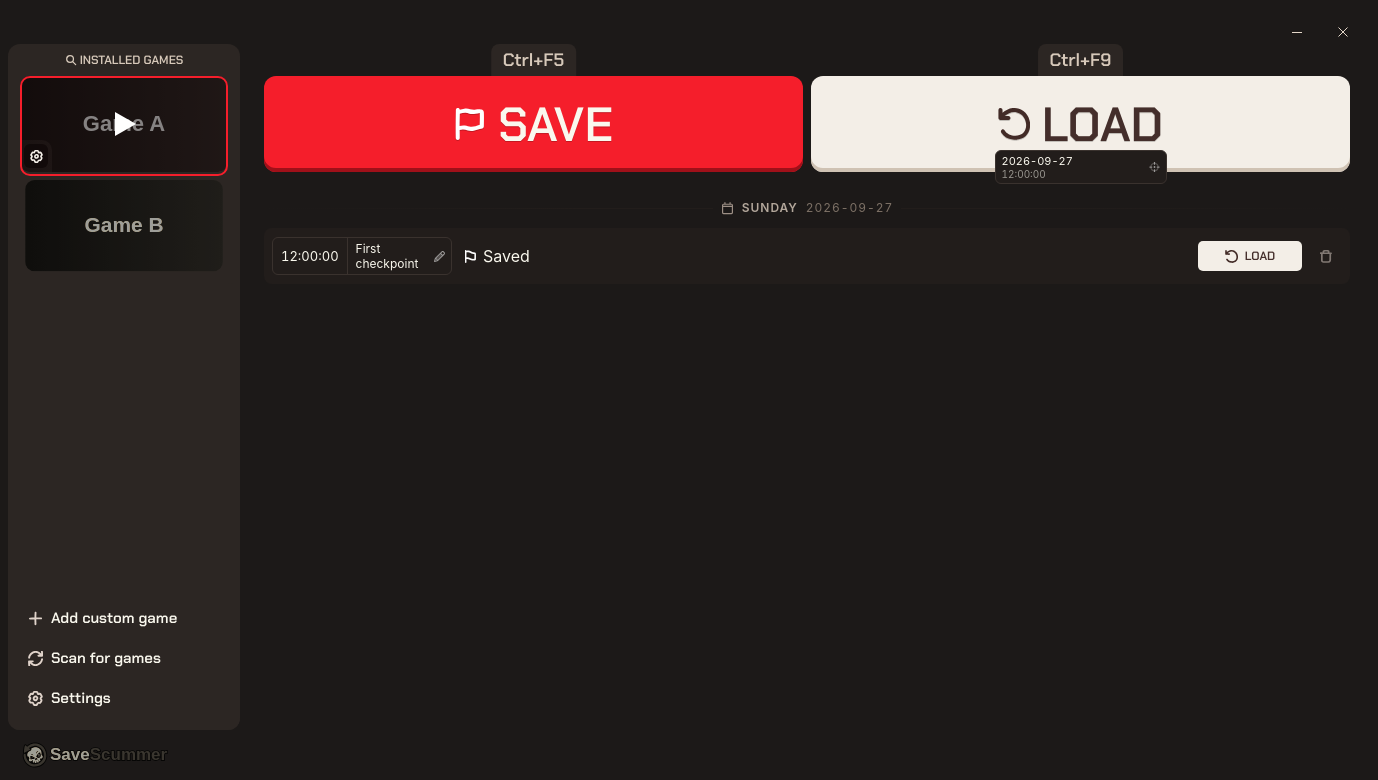
Test: an access error from an operation is translated for the error block
This screenshot has width=1378, height=780.
Click the button with aria-label "save Game A" at [534, 124], box [264,76,803,172]
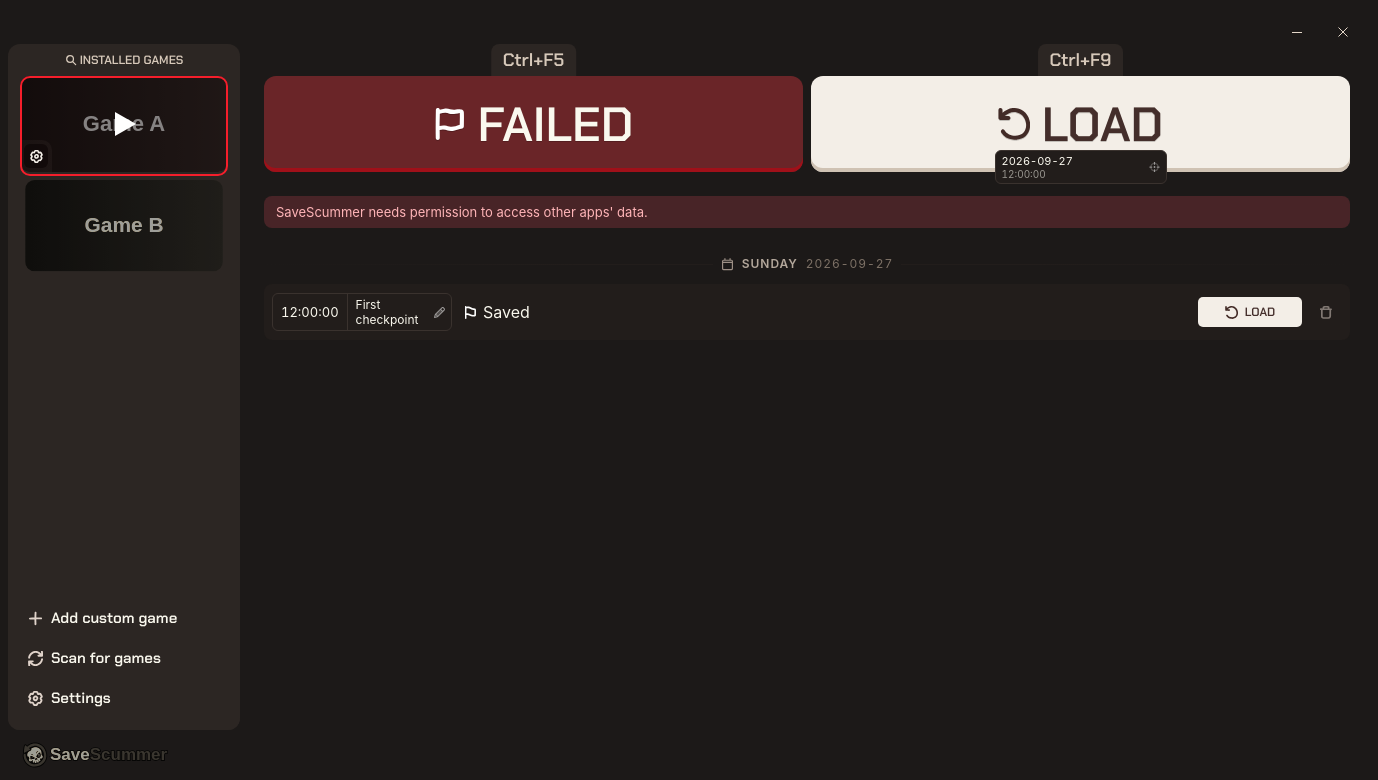
Now the message reads "SaveScummer needs permission to access other apps' data.", box [276,204,648,220]
